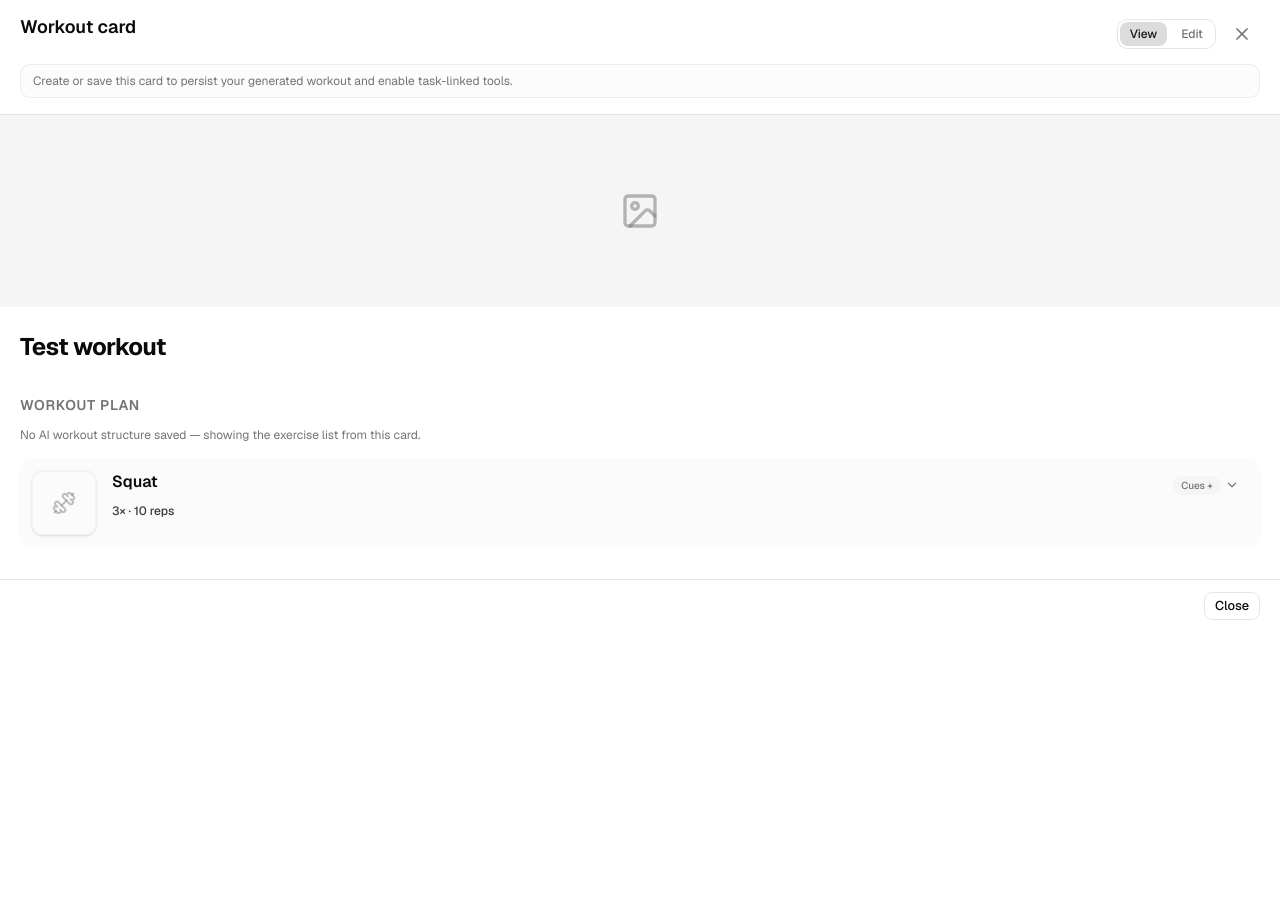
WorkoutViewerContent edit mode › renders flat WorkoutExercisesEditor for flat-only metadata
The width and height of the screenshot is (1280, 900).
Click the button "Edit" at (1192, 34), box [1171,22,1213,46]
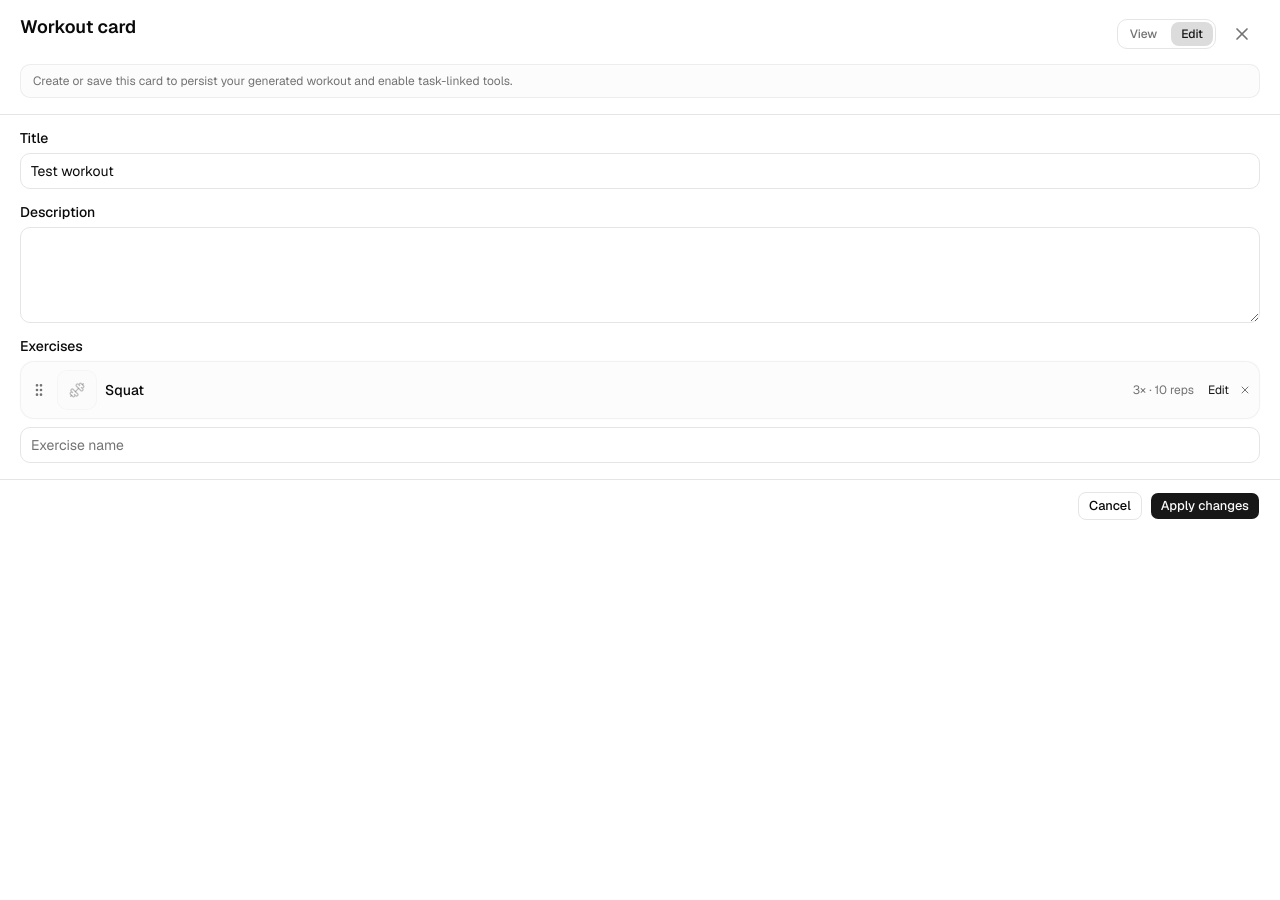
Expected: the field with placeholder "Exercise name" is shown, [20,427,1260,463]
